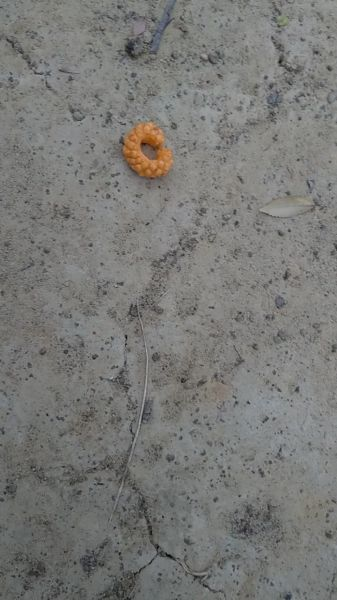eggs: (126, 115, 180, 184)
